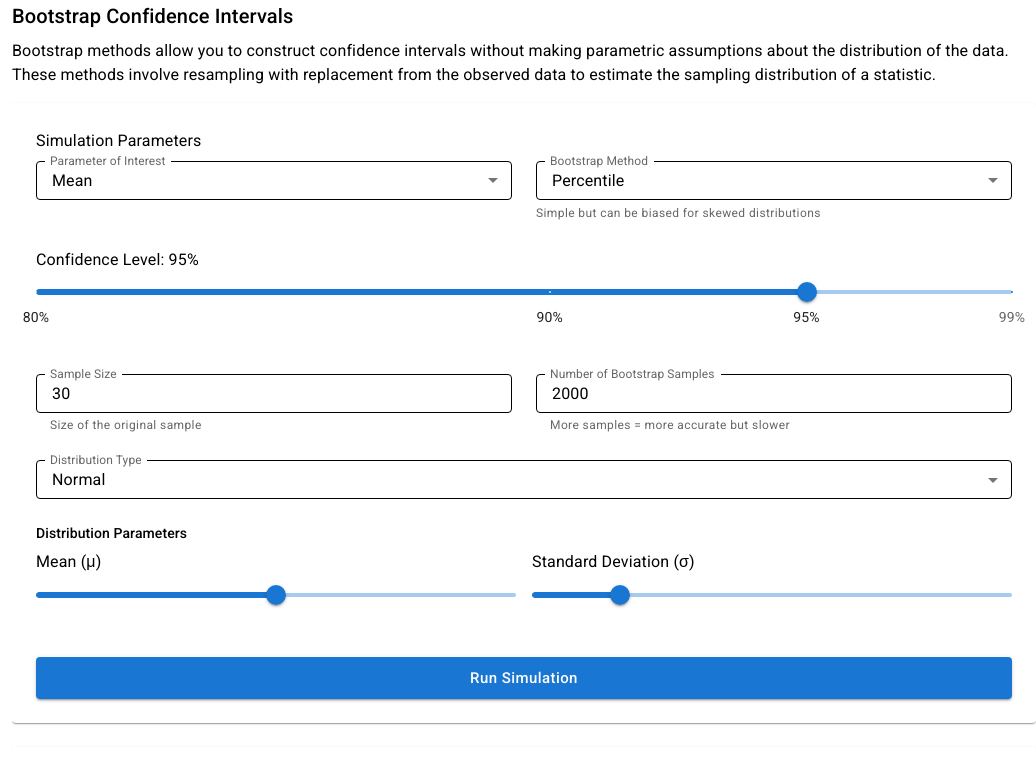
Scenario: BootstrapSimulation Component › handles WebSocket errors
// Click Run Simulation button to start
What coordinates should you click on to do the following:
click the button "Run Simulation"
I would click on:
 (524, 678)
Its box is [36, 656, 1012, 699].
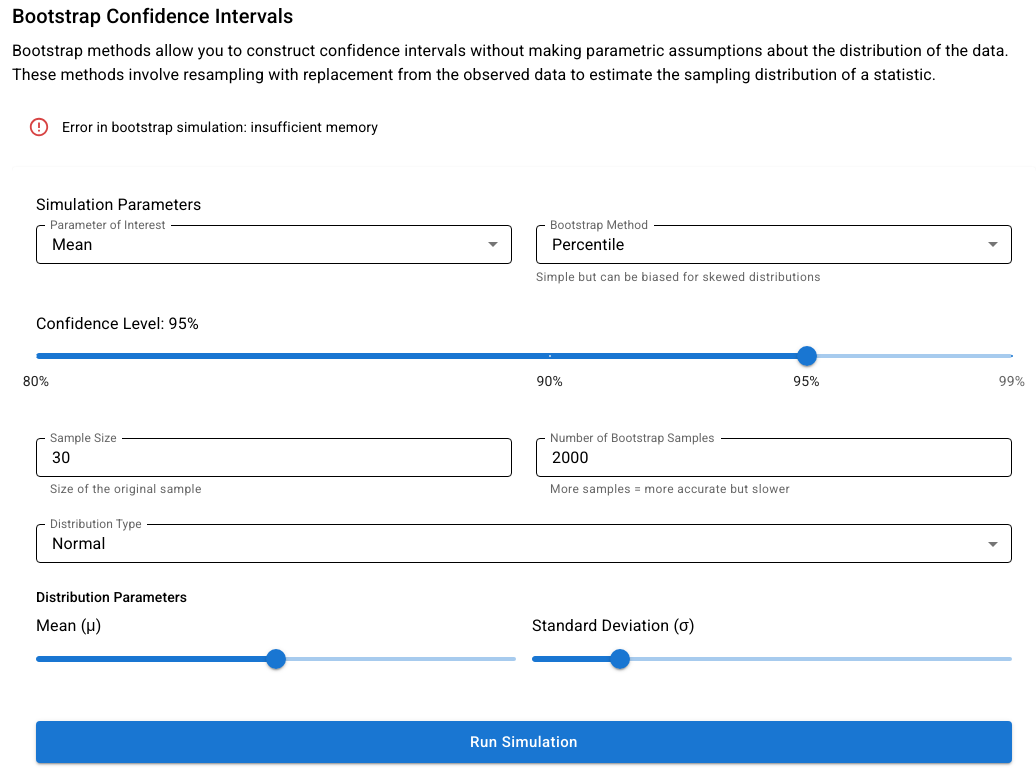
Now the text "Error in bootstrap simulation: insufficient memory" is shown, box [62, 119, 378, 135]
